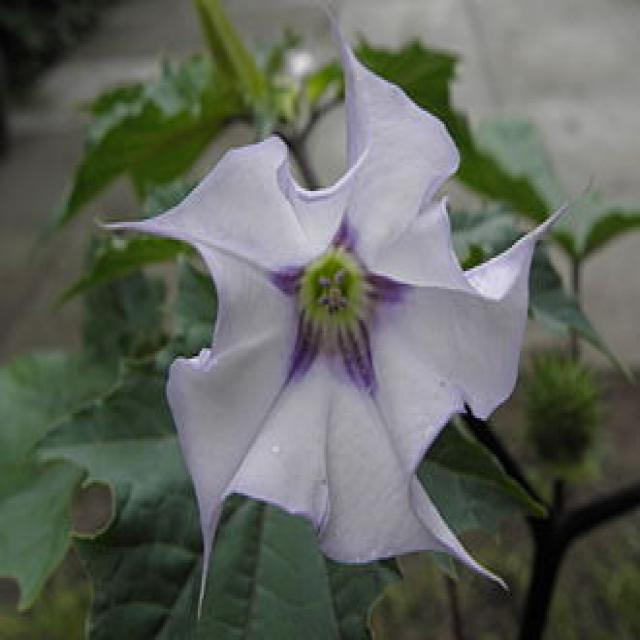Poisonous-Datura_Stramonium: (89, 22, 567, 619)
